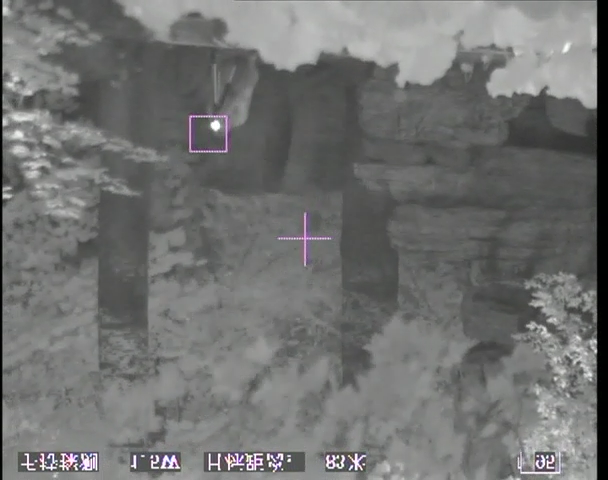my: (209, 120, 222, 133)
